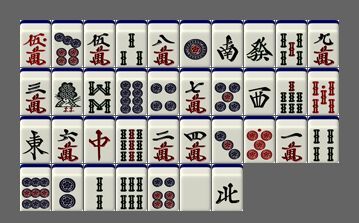0m: (20, 20, 51, 67)
0p: (244, 116, 275, 163)
0s: (308, 68, 339, 115)
1m: (276, 116, 307, 163)
1p: (180, 20, 211, 67)
1s: (52, 68, 83, 115)
1z: (20, 116, 51, 163)
2m: (148, 116, 179, 163)
2p: (52, 164, 83, 211)
2s: (84, 164, 115, 211)
2z: (212, 20, 243, 67)
3m: (20, 68, 51, 115)
3p: (212, 116, 243, 163)
3s: (116, 20, 147, 67)
3z: (244, 68, 275, 115)
4m: (180, 116, 211, 163)
4p: (148, 68, 179, 115)
4s: (308, 116, 339, 163)
4z: (212, 164, 243, 211)
5m: (84, 20, 115, 67)
5p: (212, 68, 243, 115)
5s: (276, 20, 307, 67)
5z: (180, 164, 211, 211)
6m: (52, 116, 83, 163)
6p: (148, 164, 179, 211)
6s: (116, 164, 147, 211)
6z: (244, 20, 275, 67)
7m: (180, 68, 211, 115)
7p: (52, 20, 83, 67)
7s: (276, 68, 307, 115)
7z: (84, 116, 115, 163)
8m: (148, 20, 179, 67)
8p: (116, 68, 147, 115)
8s: (84, 68, 115, 115)
9m: (308, 20, 339, 67)
9p: (20, 164, 51, 211)
9s: (116, 116, 147, 163)
